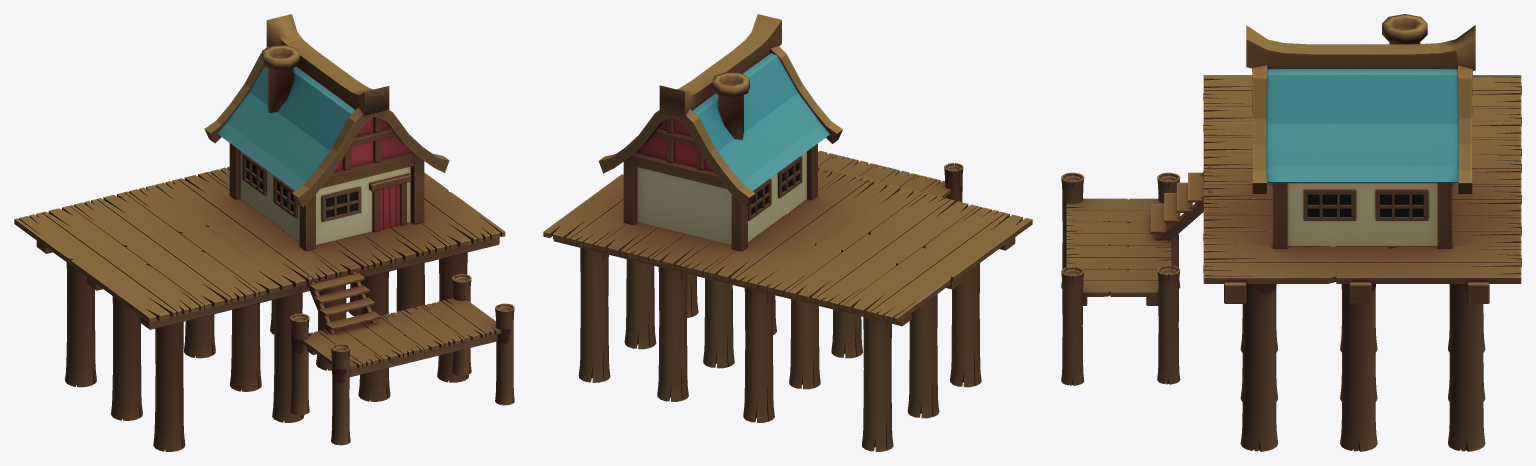
File: Port.fbx
3 views of the same model, side by side, from view 1: azimuth 30°, elevation 25°; view 2: azimuth 150°, elevation 25°; view 3: azimuth 270°, elevation 25° (orthographic). The views are drawn at different scales.
Parts seen in each view (by area): view 1: Plane.003; view 2: Plane.003; view 3: Plane.003.
Part boxes in pixels (bbox=[...]): Plane.003: bbox=[14, 14, 514, 451]; Plane.003: bbox=[543, 14, 1032, 451]; Plane.003: bbox=[1061, 14, 1521, 451].
Size of the model in its own units: 427 by 354 by 405.
Materials: 1 (1 with a texture image).
